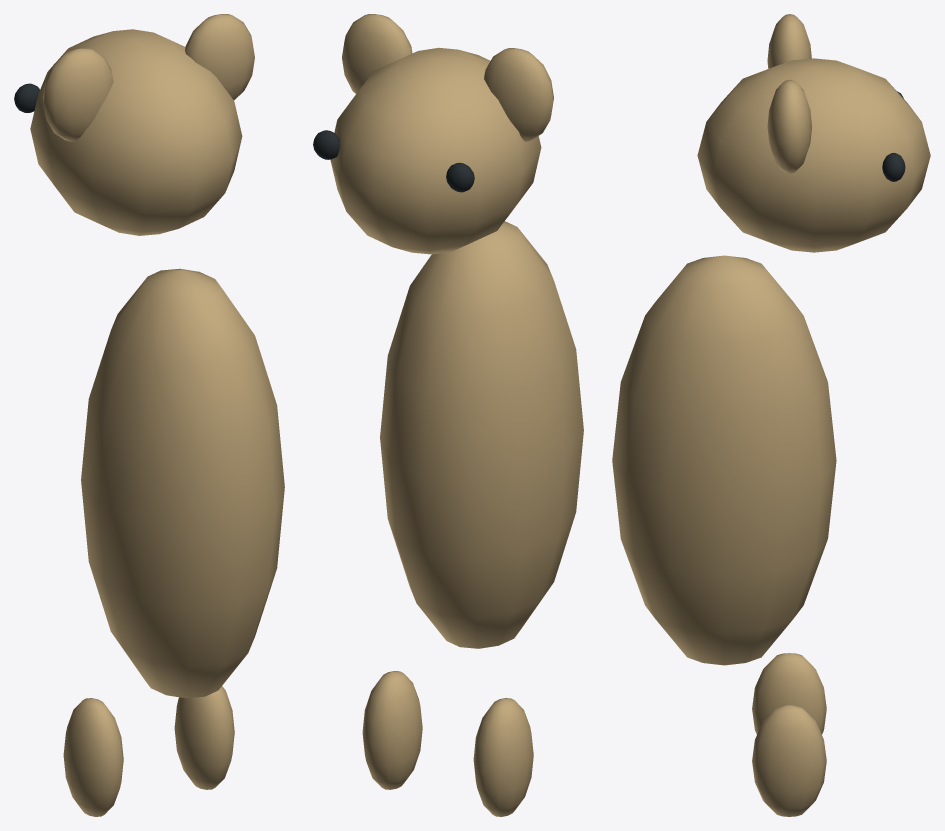
Rendered from animal_meerkat.glb.
The picture shows the model from 3 angles, left to right: view 1: azimuth 30°, elevation 25°; view 2: azimuth 150°, elevation 25°; view 3: azimuth 270°, elevation 25°; orthographic projection. The views are drawn at different scales.
Visible parts, largest first — view 1: Body, LegFL, LegFR; view 2: Body, LegFL, LegFR; view 3: Body, LegFR, LegFL.
Boxes of the visible parts, x1,y1,x2,y2 form: Body: (14, 14, 284, 698); LegFL: (63, 698, 123, 816); LegFR: (174, 686, 234, 789); Body: (313, 14, 583, 648); LegFL: (473, 698, 533, 816); LegFR: (362, 671, 422, 789); Body: (612, 14, 930, 665); LegFR: (752, 705, 826, 816); LegFL: (752, 653, 826, 734).
Size of the model in its own units: 0.312 by 1.09 by 0.426.
